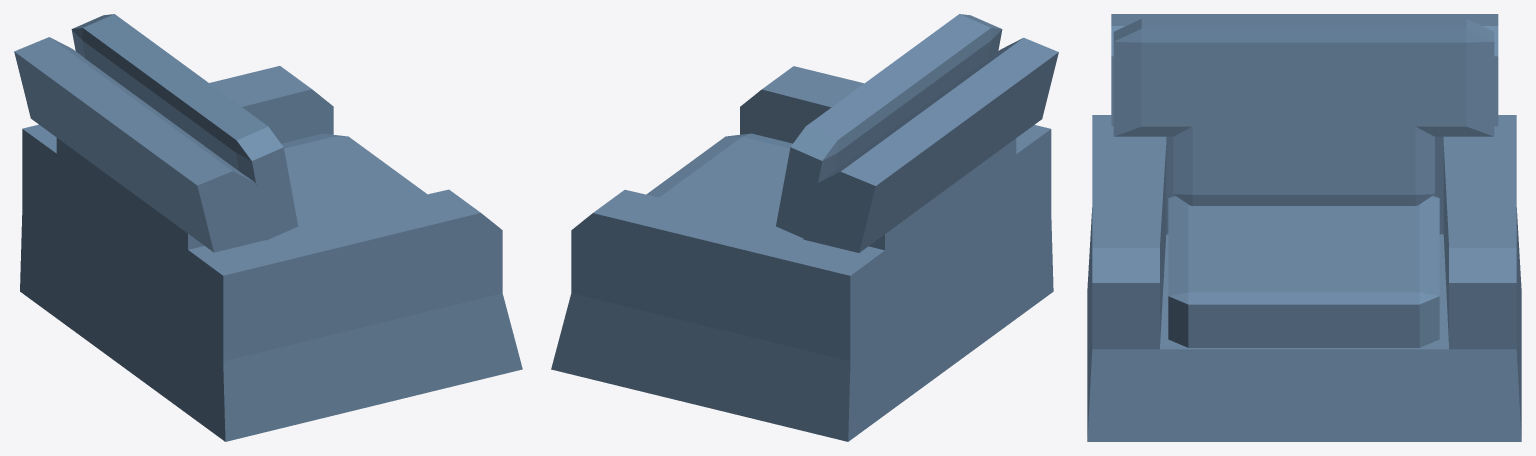
The model's file is Sofa.glb.
3 views of the same model, side by side, from view 1: azimuth 30°, elevation 25°; view 2: azimuth 150°, elevation 25°; view 3: azimuth 270°, elevation 25° (orthographic). The views are drawn at different scales.
Bounding box in the file's own units: 0.7369 × 0.6276 × 0.8354.
